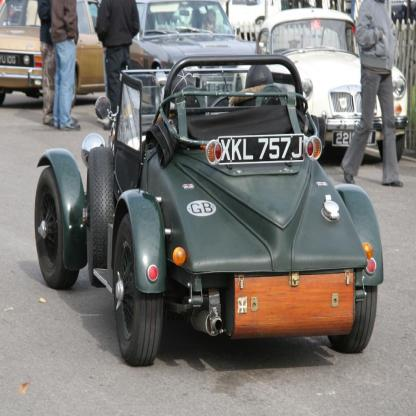Car: (73, 43, 386, 361), (253, 2, 408, 163), (1, 1, 143, 108), (130, 1, 257, 73)
